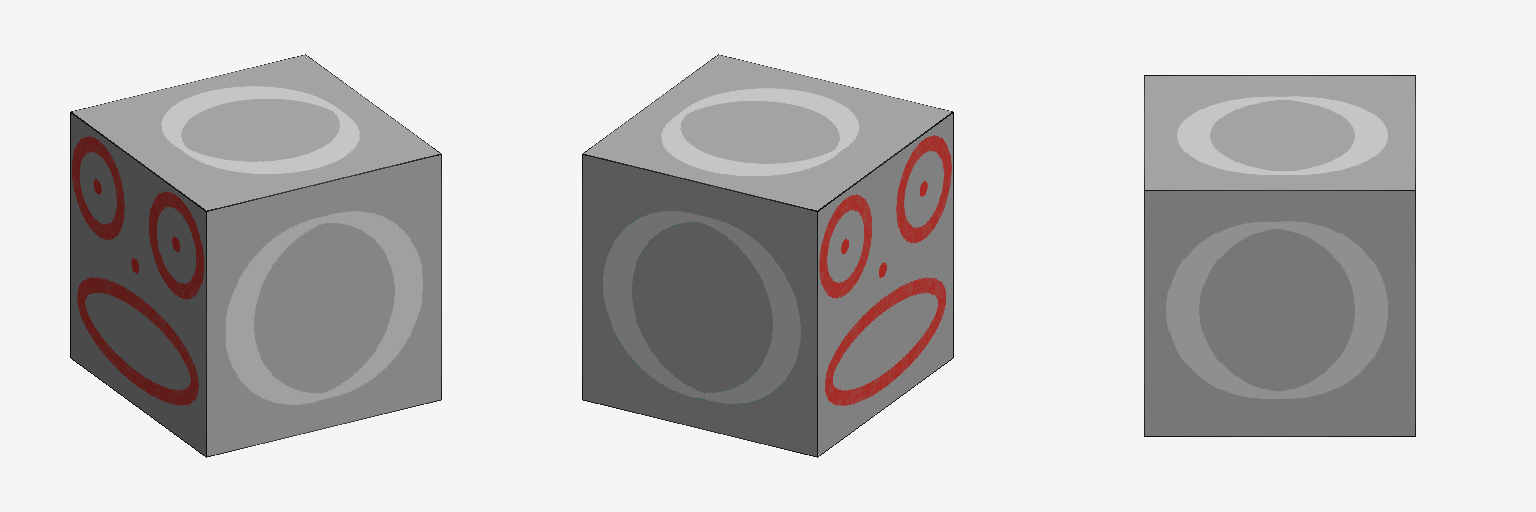
The picture shows the model from 3 angles: view 1: azimuth 30°, elevation 25°; view 2: azimuth 150°, elevation 25°; view 3: azimuth 270°, elevation 25°; orthographic projection.
Parts seen in each view (by area): view 1: Cube; view 2: Cube; view 3: Cube.
Boxes of the visible parts, x1=… form: Cube: x1=70, y1=54, x2=441, y2=457; Cube: x1=582, y1=54, x2=953, y2=457; Cube: x1=1144, y1=75, x2=1415, y2=436.
Bounding box in the file's own units: 2 × 2 × 2.
1 materials, 1 textured.